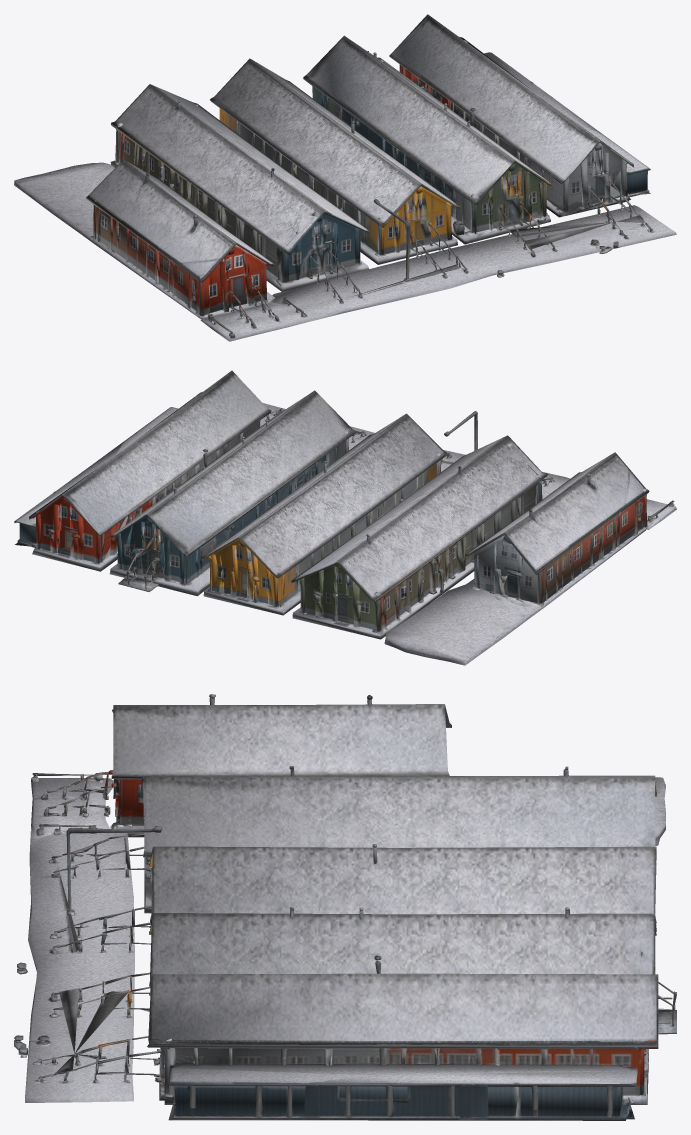
Rendered from longyearbyenbuildingsreihe-web.glb.
The picture shows the model from 3 angles, top to bottom: view 1: azimuth 30°, elevation 25°; view 2: azimuth 150°, elevation 25°; view 3: azimuth 270°, elevation 25°; orthographic projection. The views are drawn at different scales.
Size of the model in its own units: 1 by 0.1602 by 0.834.
1 material, 1 textured.
